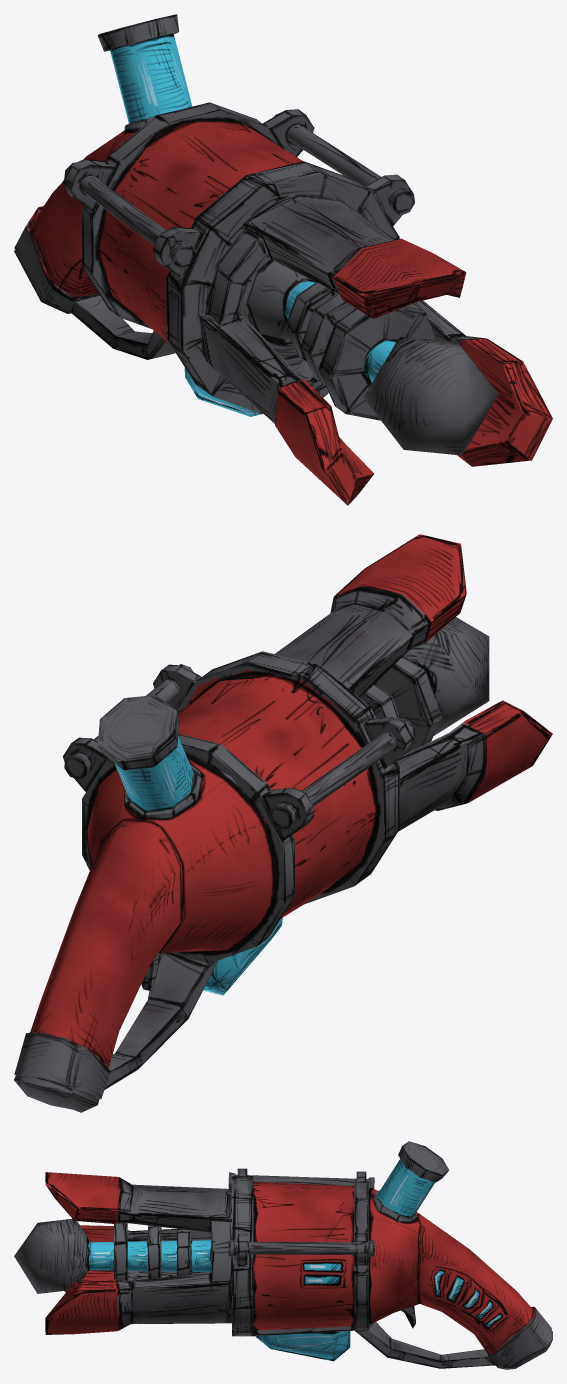
Rendered from pistol.fbx.
3 views of the same model, one above another, from view 1: azimuth 30°, elevation 25°; view 2: azimuth 150°, elevation 25°; view 3: azimuth 270°, elevation 25° (orthographic). The views are drawn at different scales.
Visible parts, largest first — view 1: pistol; view 2: pistol; view 3: pistol.
Part boxes in pixels (<box>): pistol: <box>14,14,552,505</box>; pistol: <box>14,534,552,1112</box>; pistol: <box>14,1141,552,1369</box>.
Size of the model in its own units: 0.1981 by 0.2644 by 0.5813.
Materials: 1 (1 with a texture image).
